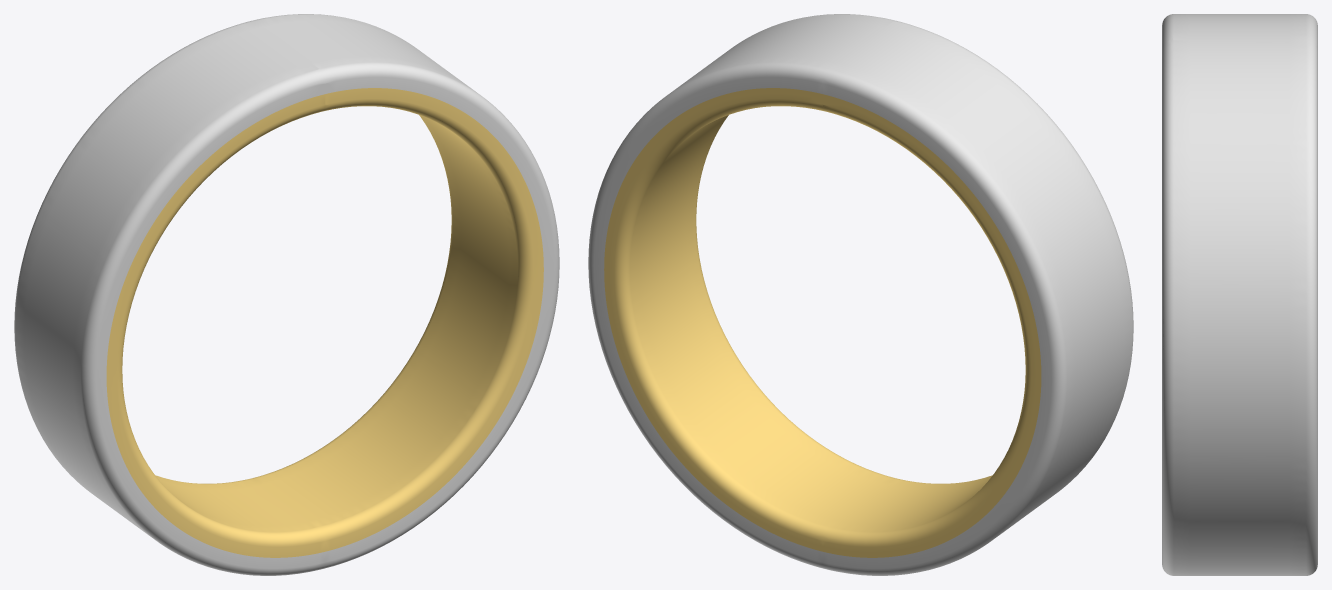
File: BrendanHISptYG_blender.glb
The picture shows the model from 3 angles, left to right: view 1: azimuth 30°, elevation 25°; view 2: azimuth 150°, elevation 25°; view 3: azimuth 270°, elevation 25°; orthographic projection.
Visible parts, largest first — view 1: Brendan HIS PT for 3d model, Brendan HIS YG for 3d model; view 2: Brendan HIS PT for 3d model, Brendan HIS YG for 3d model; view 3: Brendan HIS PT for 3d model.
Boxes of the visible parts, box(x1,y1,x2,y2) form: Brendan HIS PT for 3d model: box(14, 14, 559, 575); Brendan HIS YG for 3d model: box(106, 88, 543, 557); Brendan HIS PT for 3d model: box(588, 14, 1133, 575); Brendan HIS YG for 3d model: box(604, 88, 1041, 557); Brendan HIS PT for 3d model: box(1162, 14, 1317, 575).
Size of the model in its own units: 23.8 by 23.8 by 6.6.
